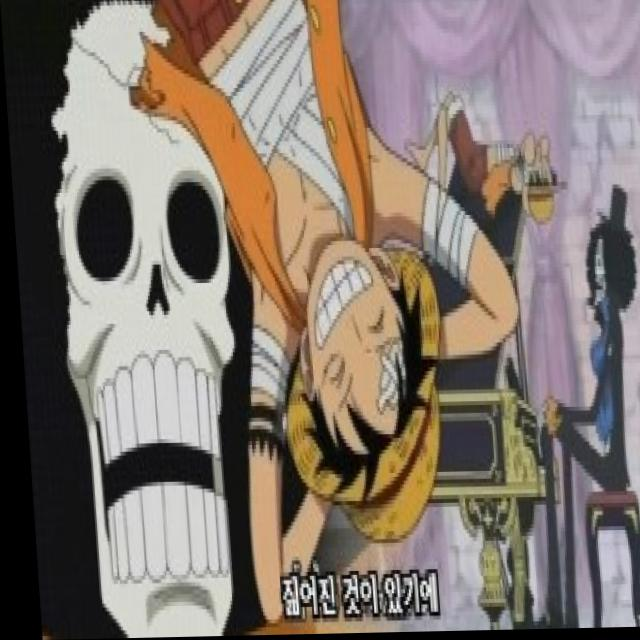Blook: (23, 3, 266, 640), (572, 207, 635, 337)
Luffy: (281, 213, 429, 505)
